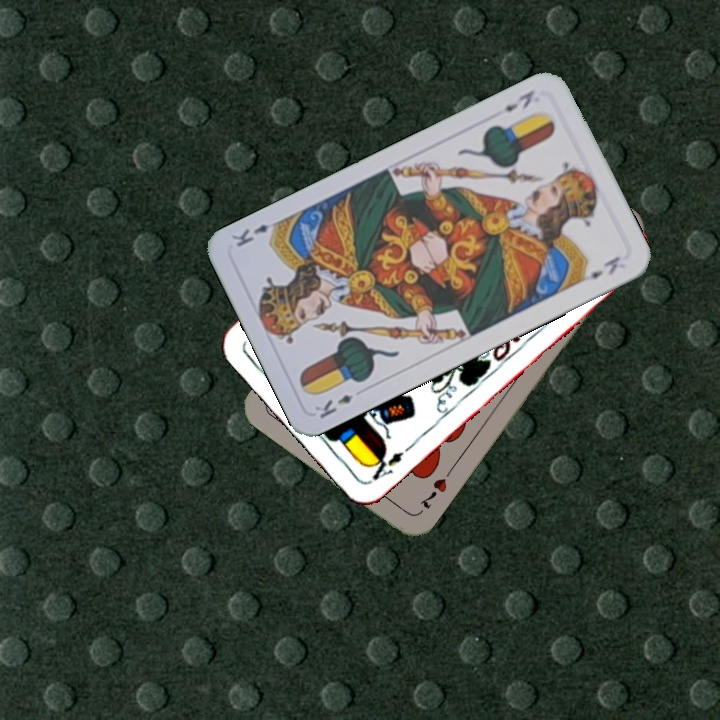EA: (364, 440, 416, 483)
EK: (310, 390, 355, 421), (500, 85, 538, 115)
H7: (415, 474, 450, 512)
